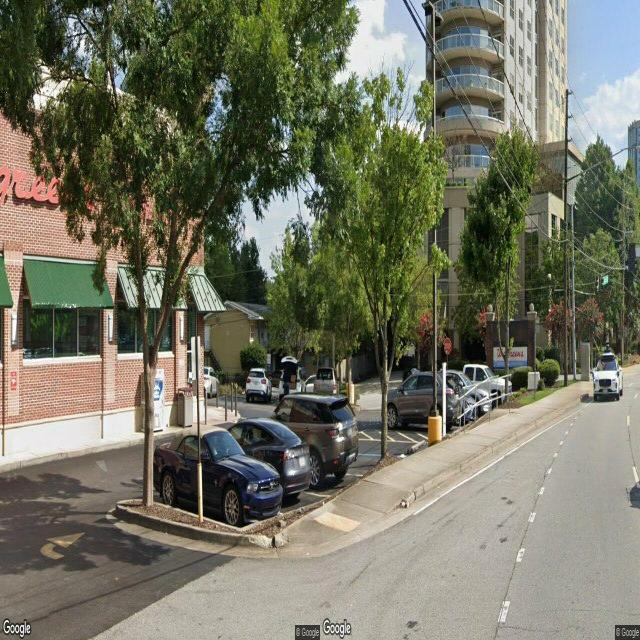trash_can: (177, 386, 193, 428)
